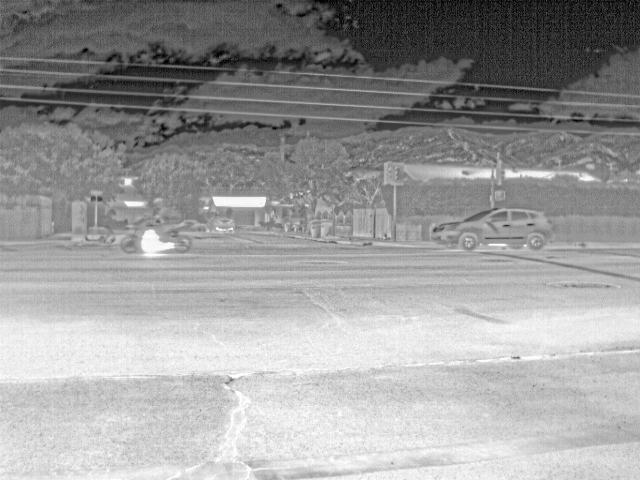car: (430, 206, 554, 252), (170, 218, 206, 234), (213, 218, 233, 232)
person: (144, 197, 167, 234)
